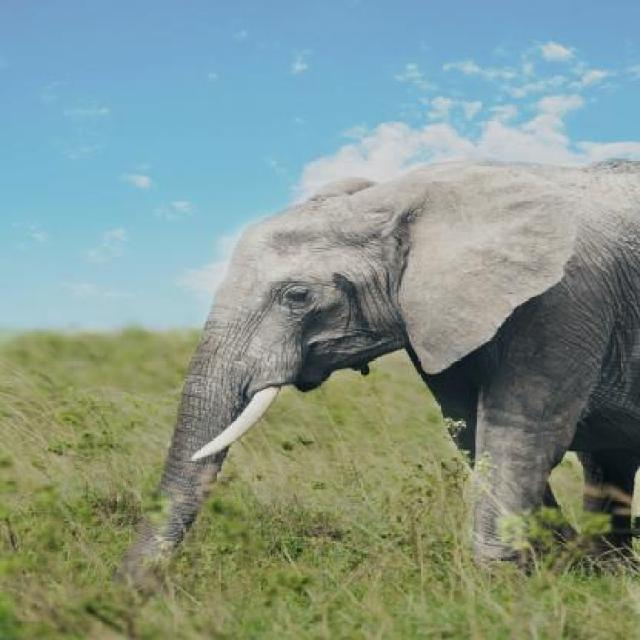Elephant: (121, 146, 638, 605)
